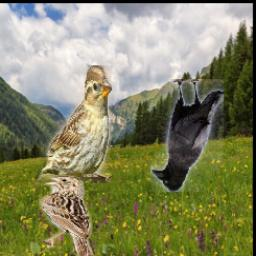Crow: (150, 80, 224, 193)
Sparrow: (37, 65, 113, 183), (40, 174, 97, 256)
